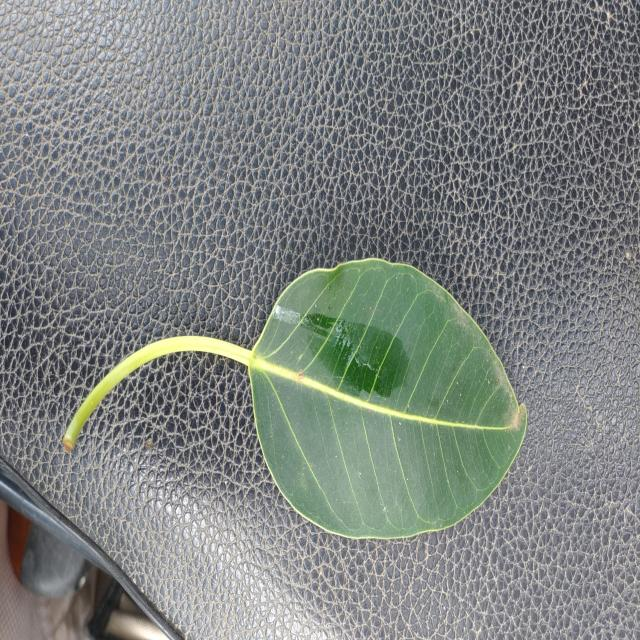camphor: (249, 260, 526, 538)
